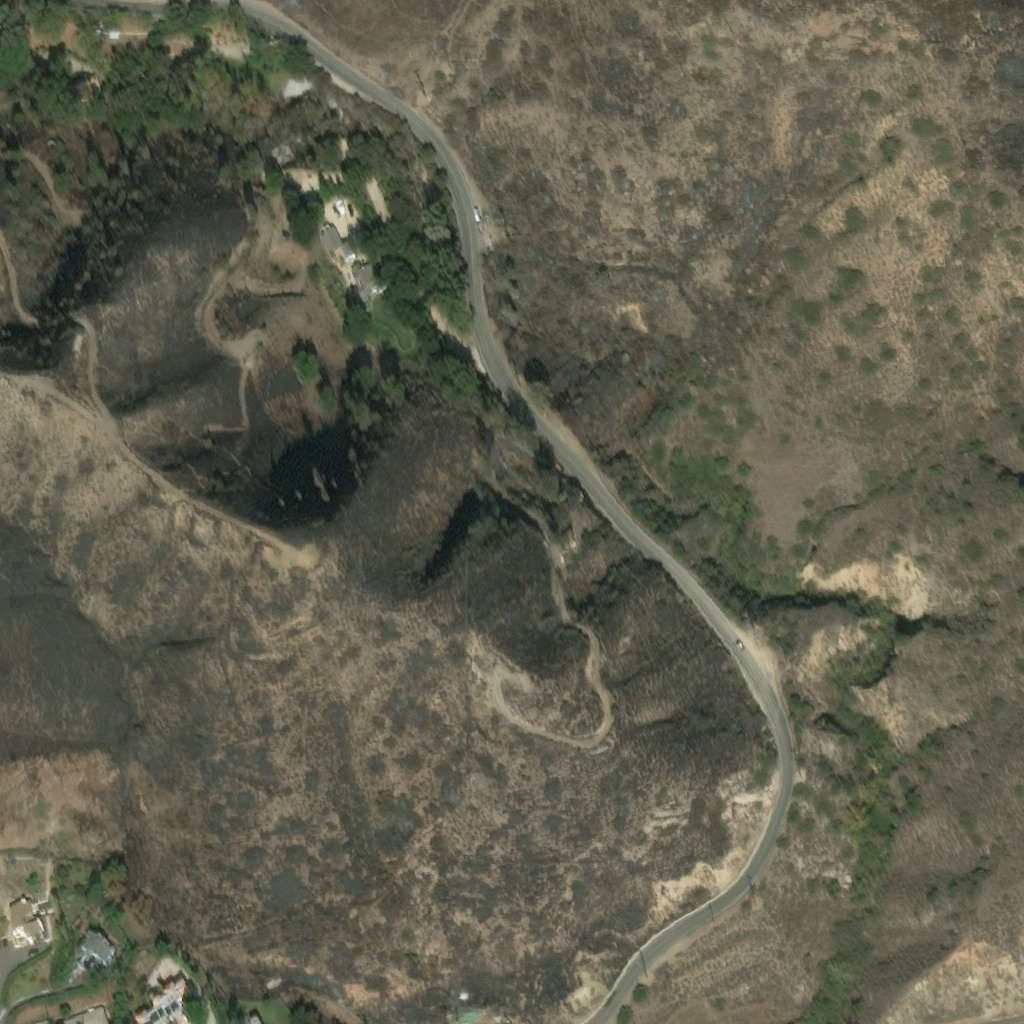0 no-damage: (133, 981, 192, 1023), (276, 156, 340, 189), (346, 260, 384, 308), (9, 899, 47, 942), (77, 930, 114, 968), (318, 221, 354, 260), (62, 1003, 108, 1023), (283, 74, 309, 88), (36, 897, 51, 912), (91, 25, 102, 36), (107, 29, 119, 37)
3 destroyed: (266, 135, 287, 157)
